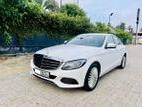car: (30, 32, 127, 92)
